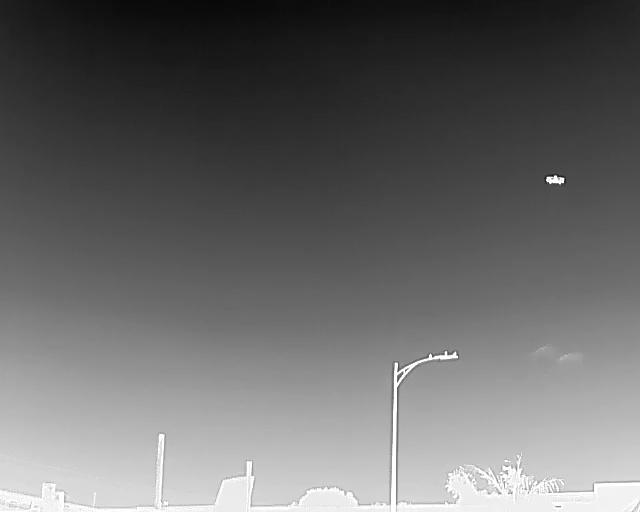fpv-drone: (545, 174, 565, 186)
